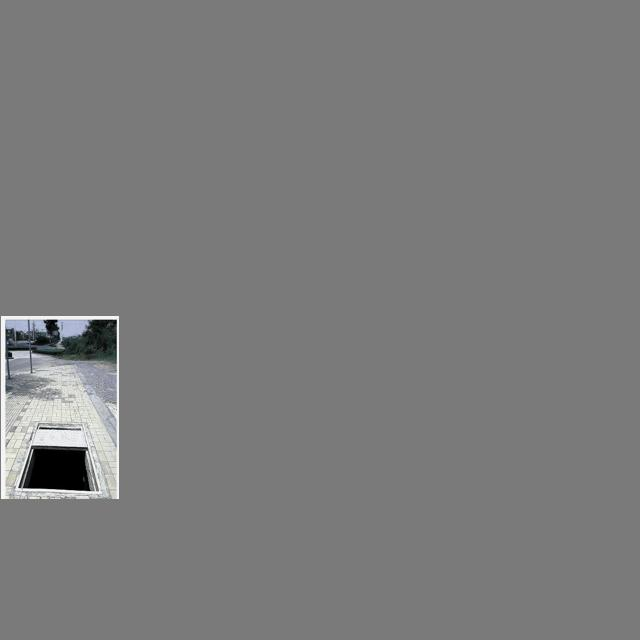lose: (10, 418, 105, 498)
